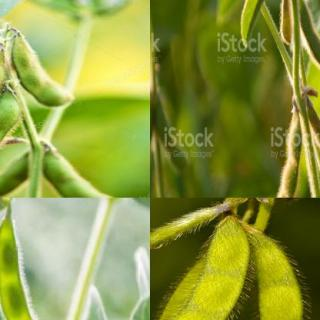soya: (150, 218, 249, 320), (242, 231, 302, 319), (0, 221, 53, 319), (12, 34, 75, 108), (41, 150, 132, 197), (150, 201, 226, 253), (274, 116, 300, 197), (298, 2, 320, 83), (0, 93, 22, 173), (0, 152, 31, 197), (307, 99, 319, 160), (279, 0, 294, 45)
